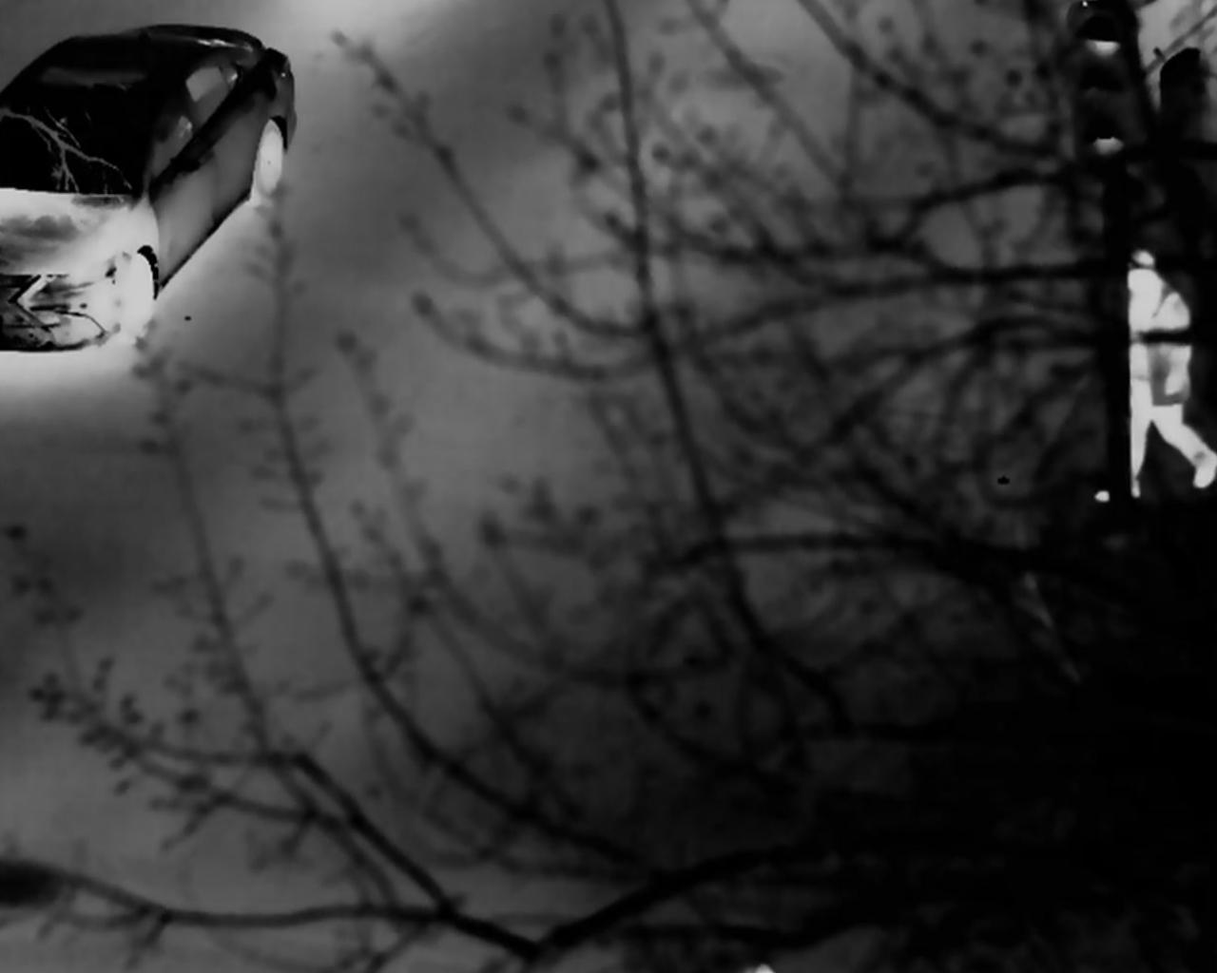person: (1120, 250, 1214, 509)
